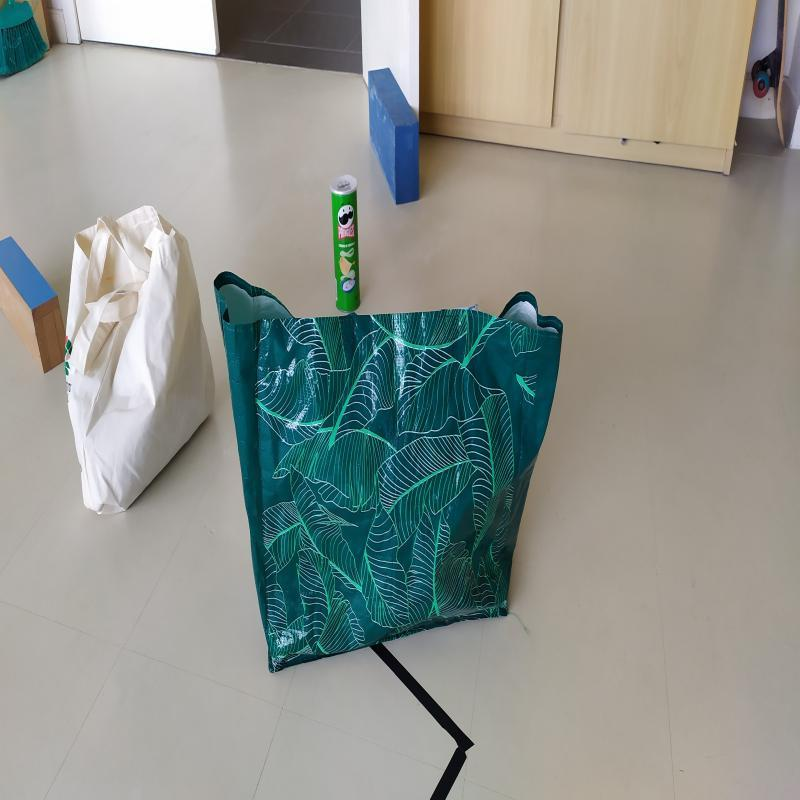Bag: (215, 268, 562, 675), (64, 199, 213, 518)
Pringles: (329, 171, 362, 311)
